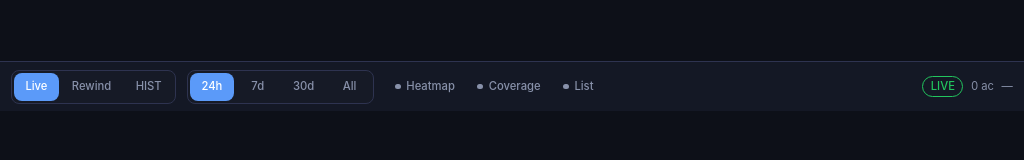
Map page — command bar › reveals scrubber after switching to Rewind
Click the radio button with test id "map-mode-rewind". click: (92, 87)
box: [61,73,123,101]
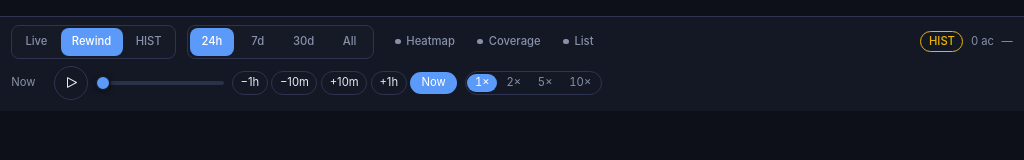
Check: the slider with test id "map-rewind-slider" is shown, box [96,81,224,85]
